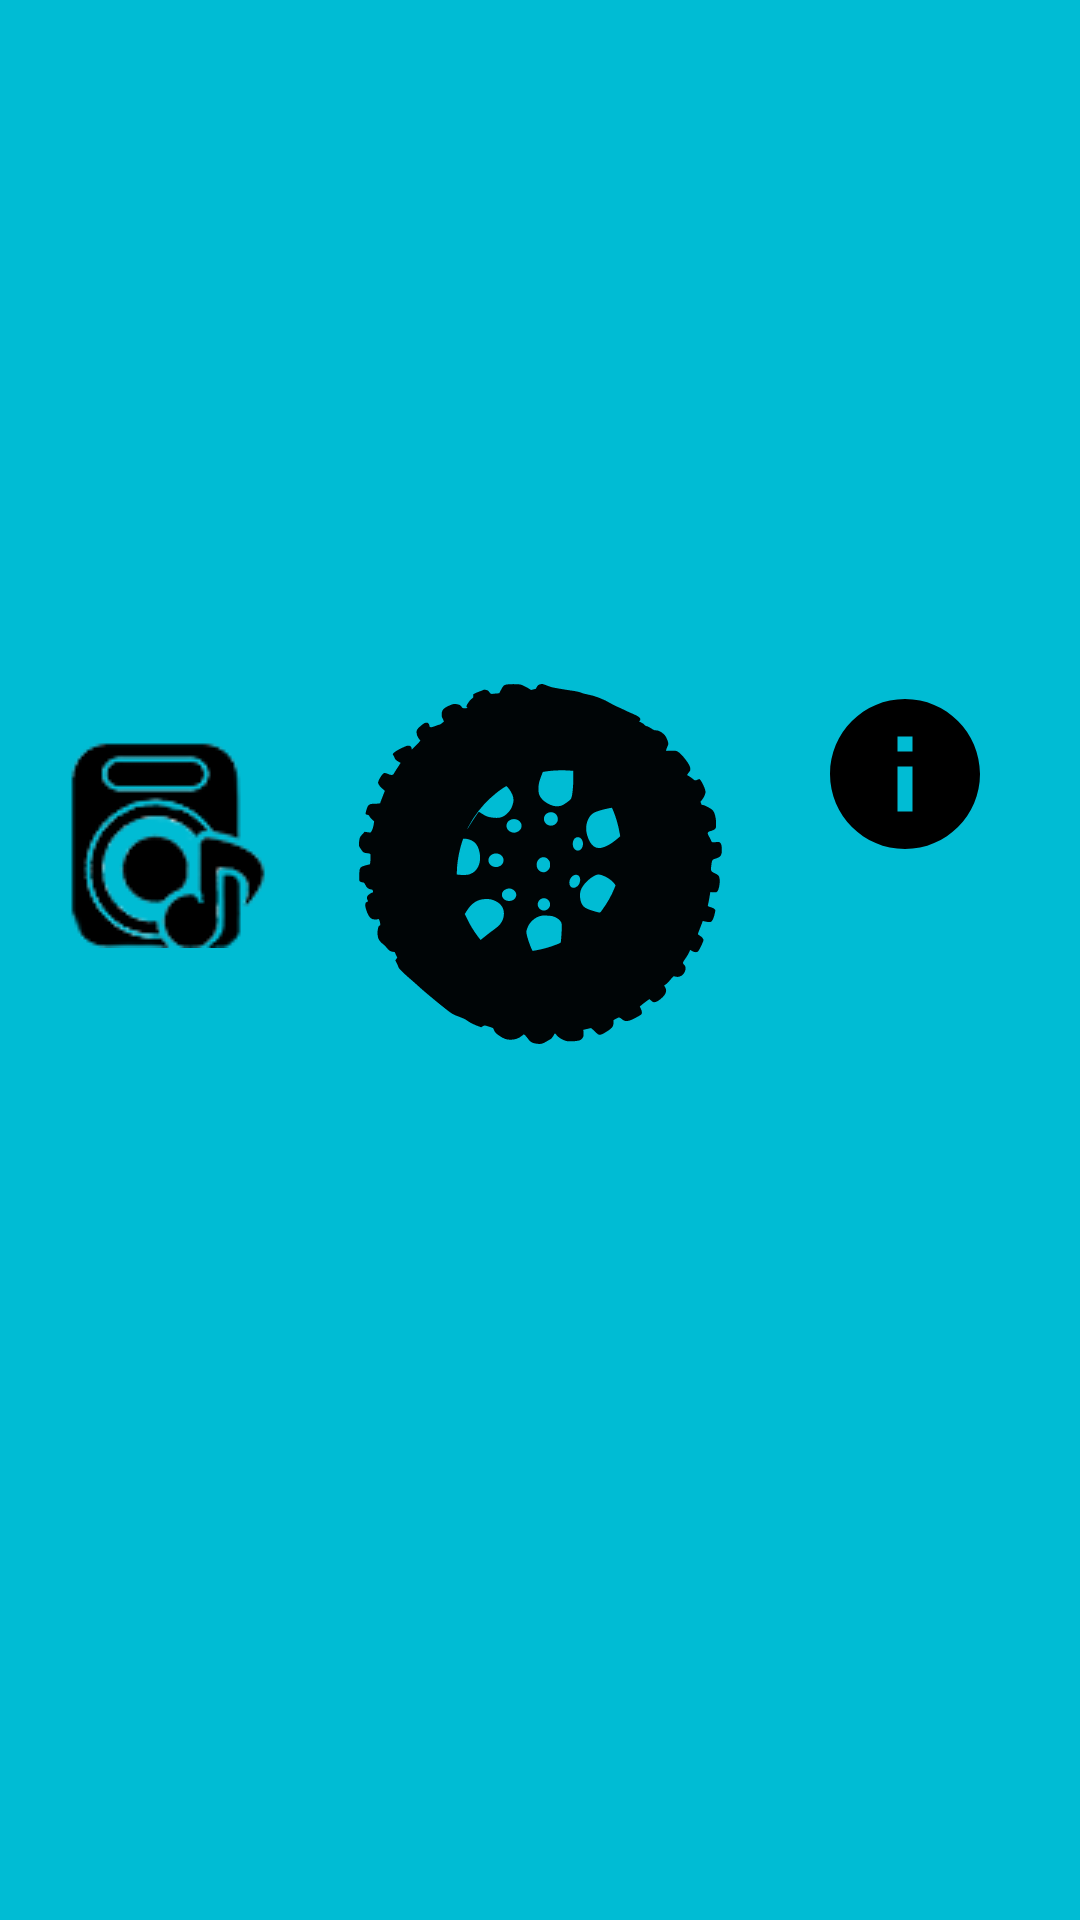

Point at icon controls on the screen. Image size 1080px x 1920px, points as (x,y).
info: (905,774)
